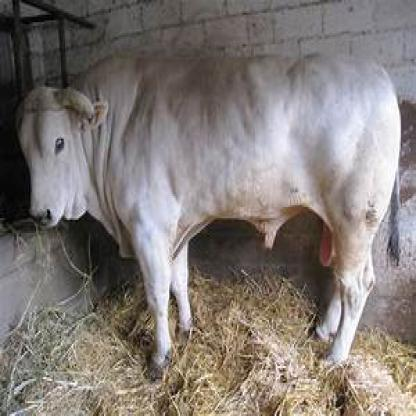cow: (15, 53, 404, 381)
